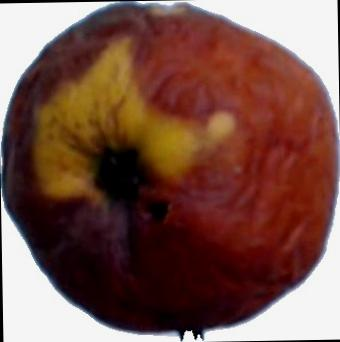Apple Overripe: (0, 0, 340, 331)
